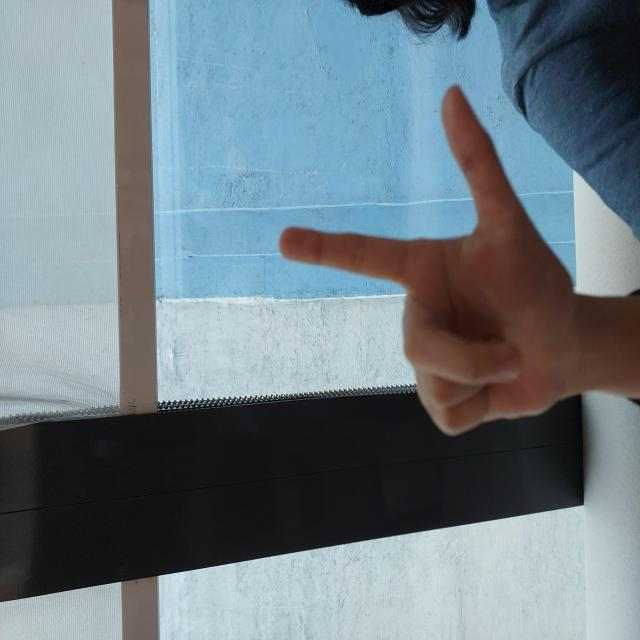L: (207, 278, 555, 572)
